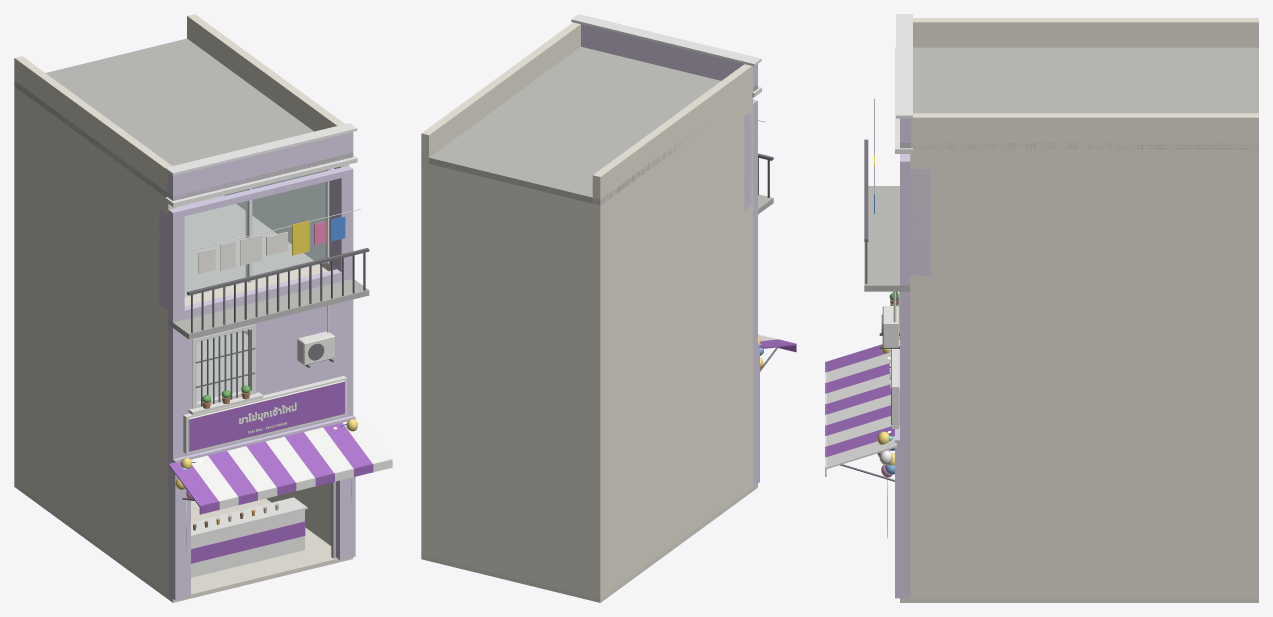
File: SM_Shop_Rival.fbx
3 renders of one model, left to right at view 1: azimuth 30°, elevation 25°; view 2: azimuth 150°, elevation 25°; view 3: azimuth 270°, elevation 25°, orthographic. The views are drawn at different scales.
Visible parts, largest first — view 1: SM_Shop_Rival; view 2: SM_Shop_Rival; view 3: SM_Shop_Rival.
Part boxes in pixels (x1,y1,x2,y2): SM_Shop_Rival: (14, 14, 392, 602); SM_Shop_Rival: (421, 14, 796, 602); SM_Shop_Rival: (825, 14, 1258, 602).
Bounding box in the file's own units: 4.9 × 10.51 × 8.47.
